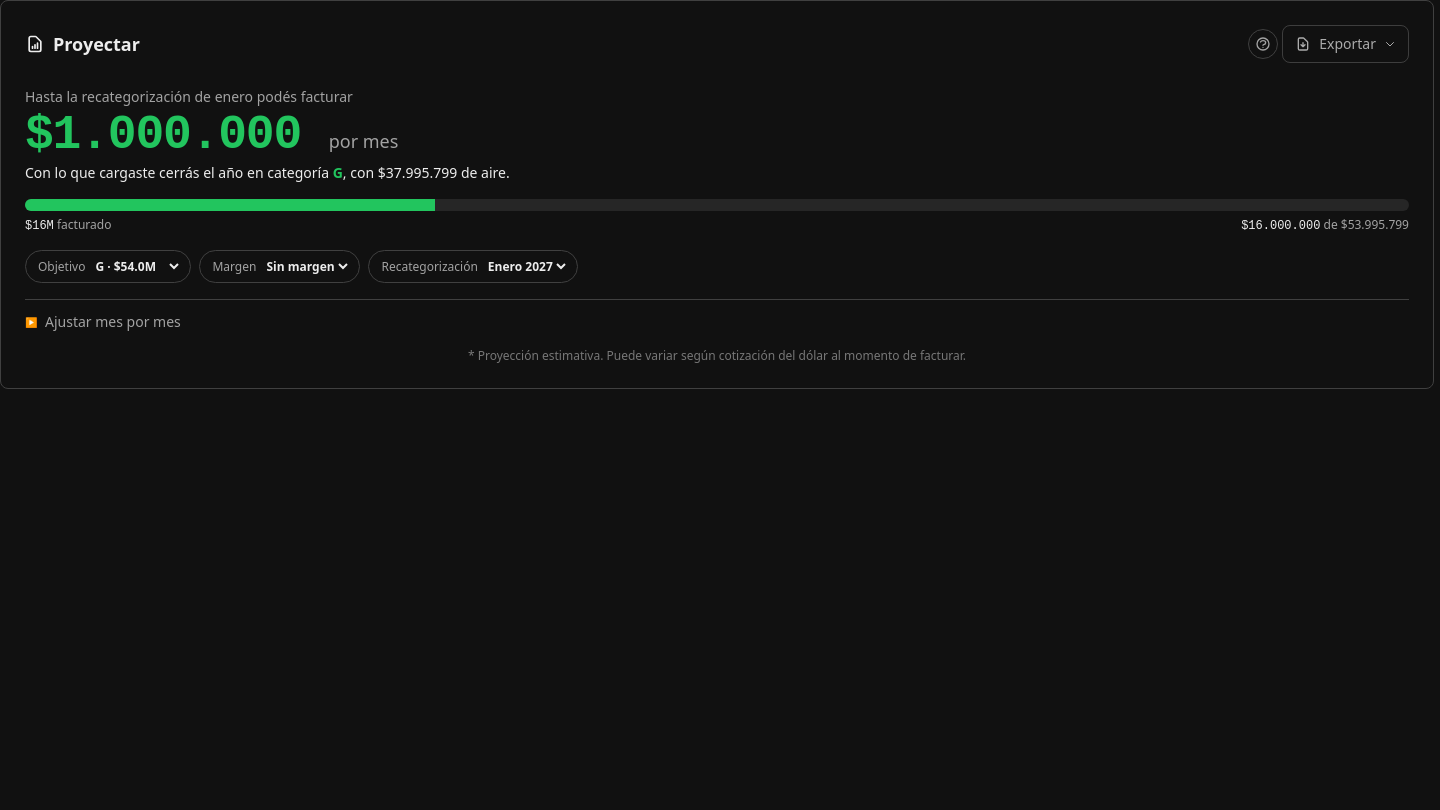
Scenario: ProjectionPanel · volver adentro de la categoría › no ofrece recortar si no hay meses abiertos donde recortar
Click the heading "▶ Ajustar mes por mes". click: point(103, 322)
box: [25, 312, 181, 331]
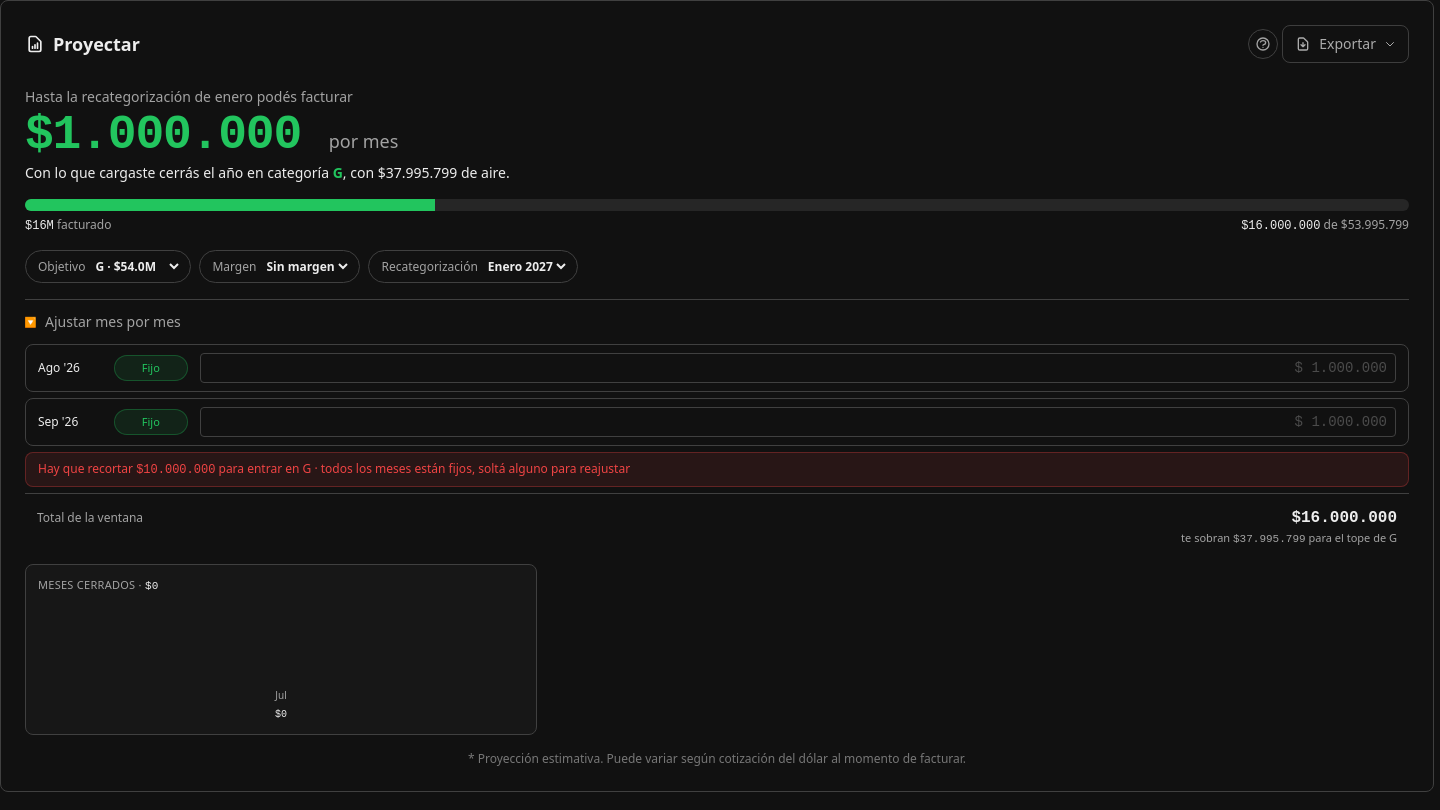
Result: the element with test id "te-pasas" shows "fijos" at [311, 460, 630, 477]
